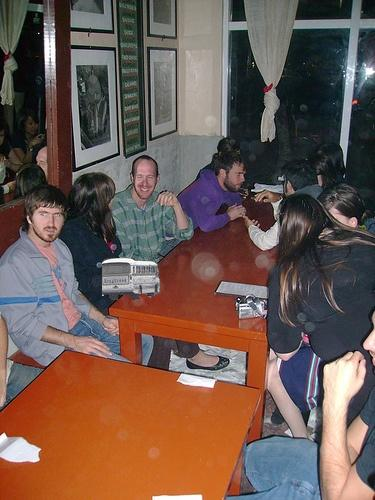tampered: (103, 259, 160, 300)
